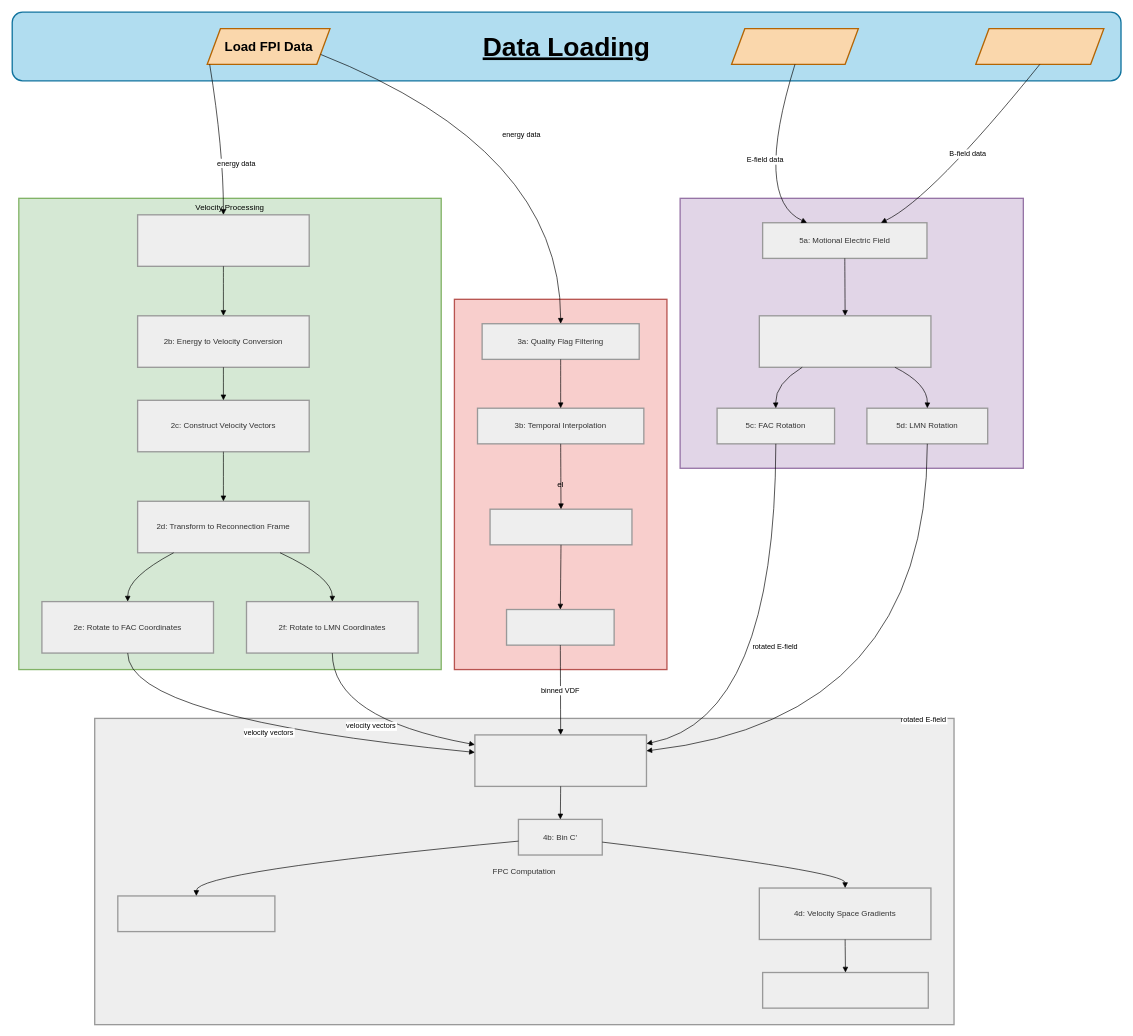
Image size: 1133x1036. Some labels were removed from this diagram. Each missing label, with the centre of its shape:
2a: Spacecraft Potential Correction: (x=223, y=240)
3c: Volume Weighting: (x=560, y=526)
3d: 3D Binning: (x=560, y=627)
4a: Alternative Correlation Term C': (x=560, y=760)
4c: Total Energy Transfer: (x=196, y=913)
4e: Final FPC Computation: (x=845, y=990)
5b: Lorentz Transformation to Reconnection Frame: (x=844, y=341)
Load EDP Data: (x=795, y=46)
Load FGM Data: (x=1039, y=46)
